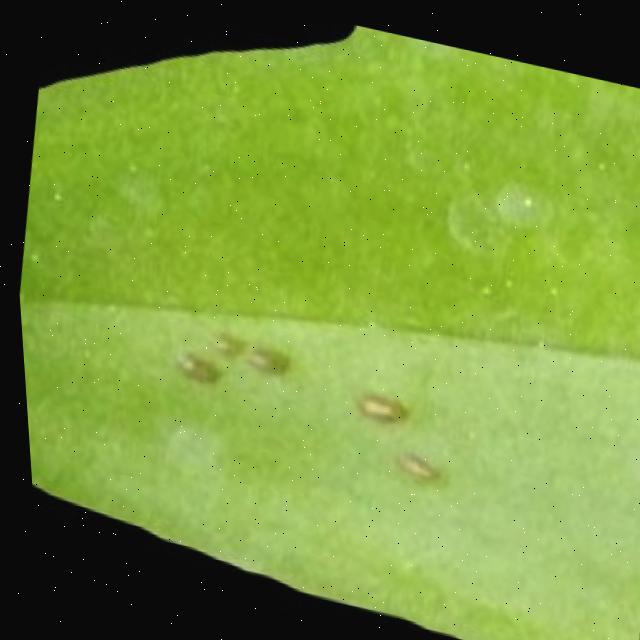mite: (157, 307, 457, 487), (411, 129, 593, 307), (167, 314, 418, 432), (438, 152, 559, 264), (479, 157, 561, 240), (337, 363, 418, 437), (489, 168, 547, 229), (207, 320, 247, 359)
